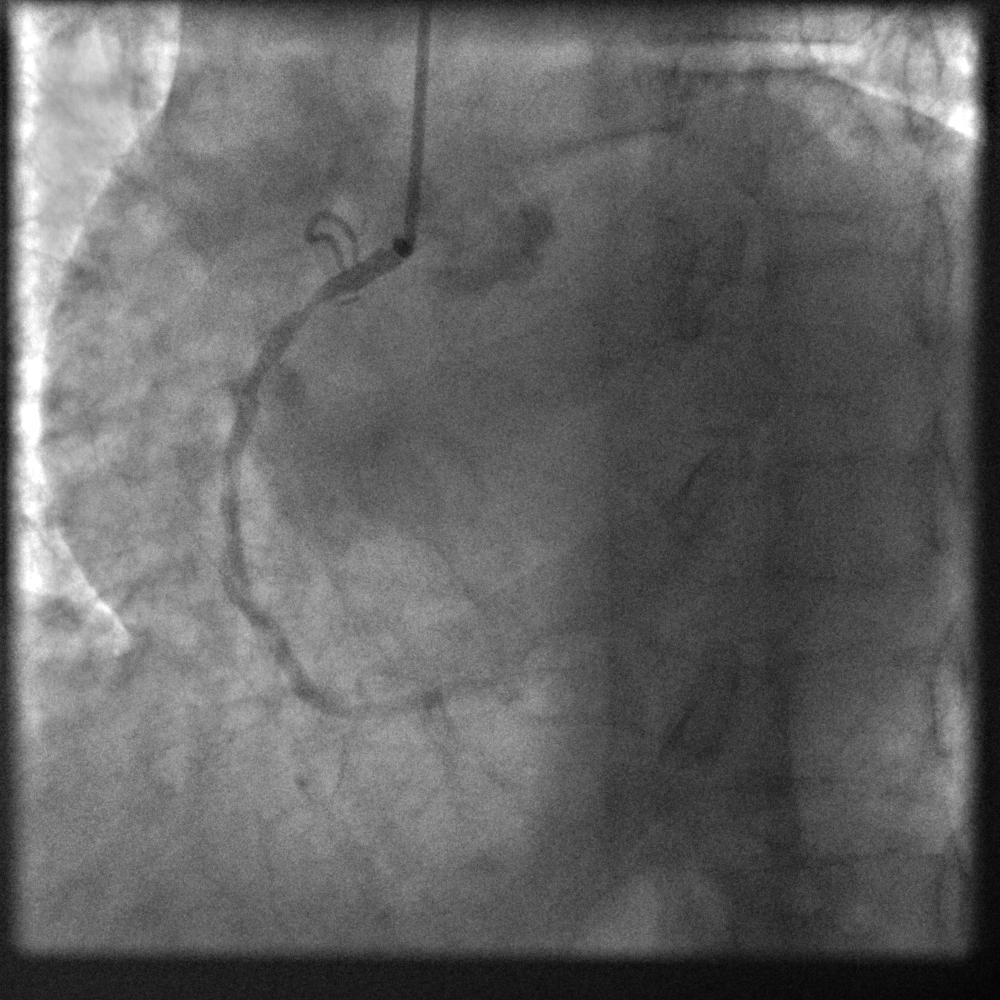Stenosis: (283, 287, 330, 323)
